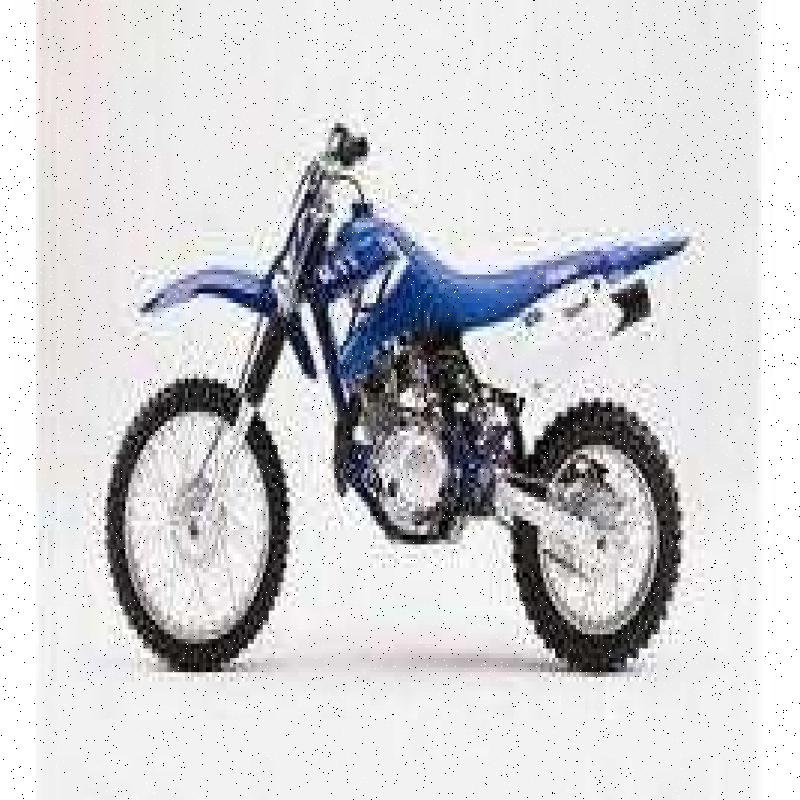bike: (89, 101, 720, 677)
